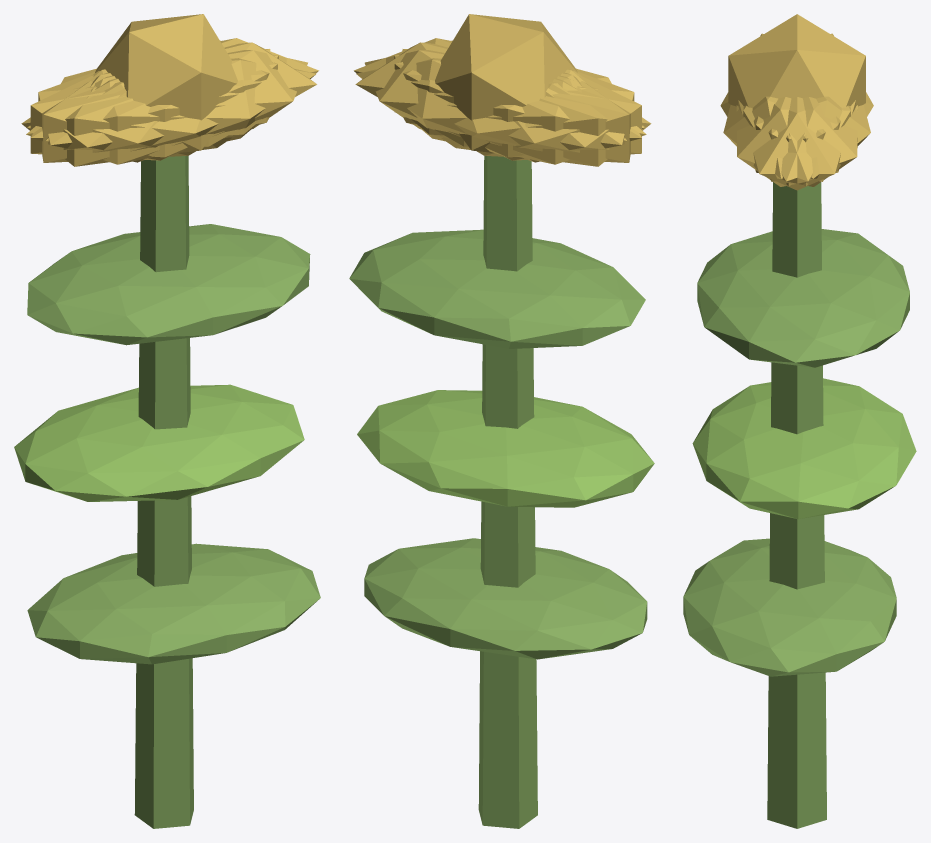
The model's file is cerbera-manghas.glb.
The picture shows the model from 3 angles, left to right: view 1: azimuth 30°, elevation 25°; view 2: azimuth 150°, elevation 25°; view 3: azimuth 270°, elevation 25°; orthographic projection.
Visible parts, largest first — view 1: stem, leaf0, leaf1, leaf2, center, petal1, petal6, petal2, petal5, petal7, petal0, petal4 (+2 smaller); view 2: leaf1, leaf2, stem, leaf0, center, petal8, petal3, petal7, petal4, petal2, petal0, petal5 (+2 smaller); view 3: leaf2, leaf1, leaf0, stem, center, petal0, petal4, petal5, petal8, petal1.
Part boxes in pixels (x1,y1,x2,y2): stem: (134, 156, 193, 828); leaf0: (27, 543, 320, 664); leaf1: (14, 384, 304, 501); leaf2: (27, 224, 310, 345); center: (95, 14, 237, 152); petal1: (26, 58, 316, 164); petal6: (21, 71, 231, 166); petal2: (42, 49, 270, 162); petal5: (46, 50, 307, 157); petal7: (30, 55, 278, 160); petal0: (94, 42, 316, 147); petal4: (27, 38, 318, 138); leaf1: (357, 390, 654, 507); leaf2: (349, 229, 645, 348); stem: (478, 156, 537, 828); leaf0: (364, 538, 647, 659); center: (435, 14, 577, 152); petal8: (356, 58, 646, 164); petal3: (441, 71, 651, 166); petal7: (402, 49, 630, 162); petal4: (364, 50, 626, 157); petal2: (394, 55, 641, 160); petal0: (355, 42, 578, 147); petal5: (354, 38, 645, 138); leaf2: (697, 229, 909, 367); leaf1: (692, 378, 916, 519); leaf0: (683, 538, 896, 676); stem: (767, 182, 826, 828); center: (728, 14, 865, 107); petal0: (738, 97, 855, 190); petal4: (743, 97, 857, 186); petal5: (736, 97, 850, 186); petal8: (753, 96, 870, 178); petal1: (723, 96, 840, 178).
Size of the model in its own units: 0.1452 by 0.3854 by 0.1039.
